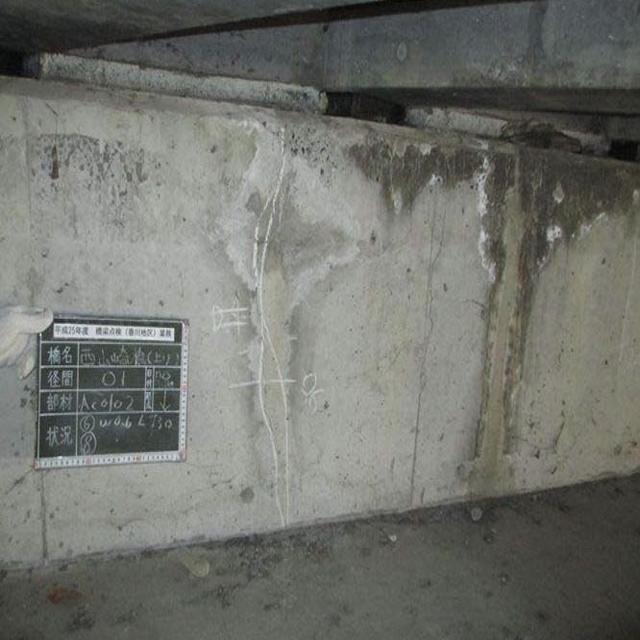leakage: (466, 132, 631, 472)
